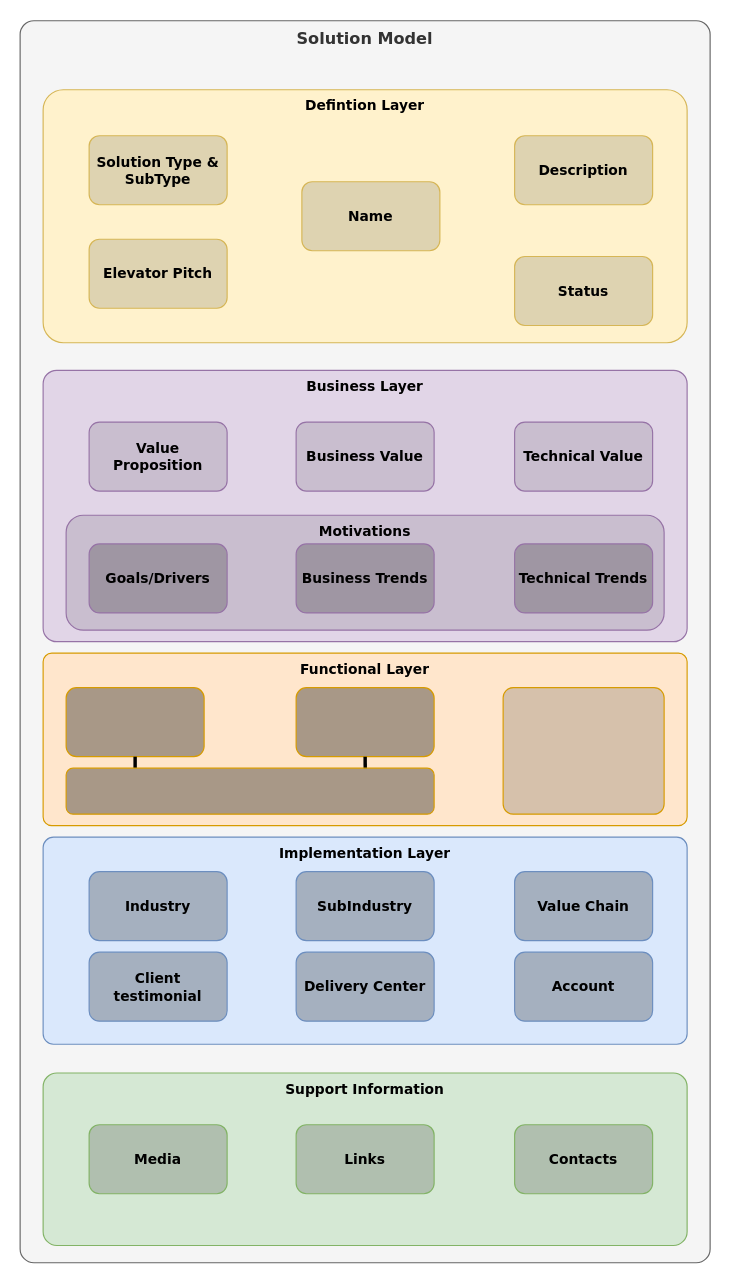
The diagram is 730 pixels wide and 1282 high, and some of its shapes have lost their labels. The centre of each missing label's shape, as x and y in pixels:
"DXC Offering" belongs at [364,722].
"Feature" belongs at [134,722].
"Pattern" belongs at [583,750].
"Technology Group" belongs at [249,790].
